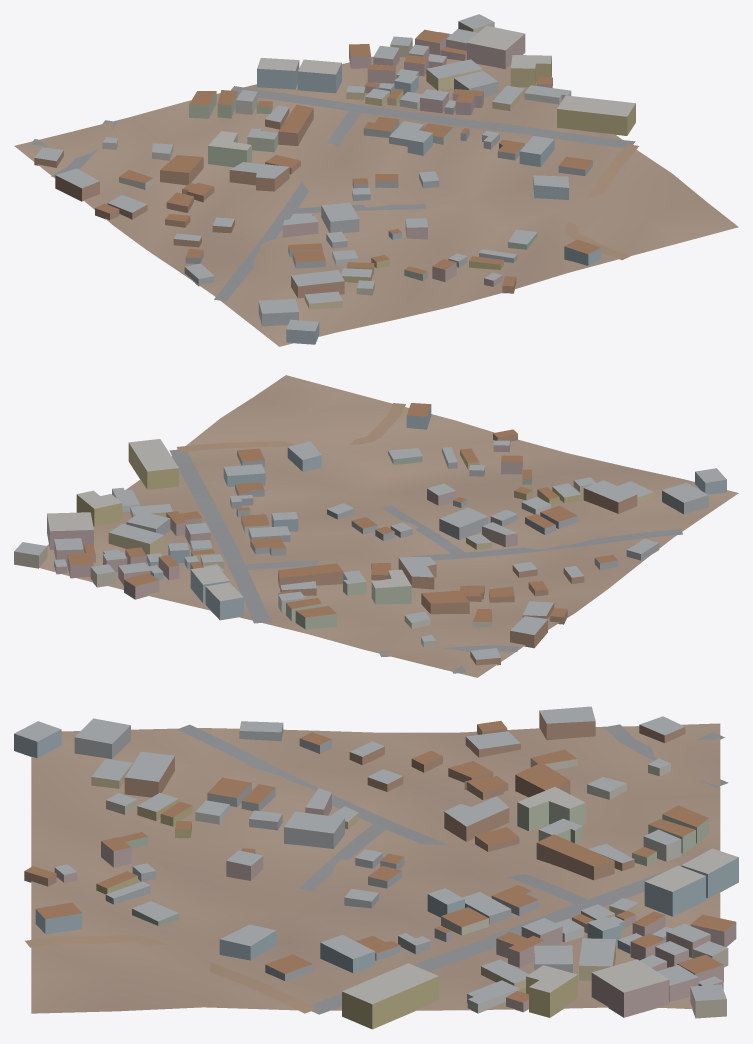
3 renders of one model, top to bottom at view 1: azimuth 30°, elevation 25°; view 2: azimuth 150°, elevation 25°; view 3: azimuth 270°, elevation 25°, orthographic. The views are drawn at different scales.
Parts seen in each view (by area): view 1: Lo; view 2: Lo; view 3: Lo.
Part boxes in pixels (x1,y1,x2,y2): Lo: (14,14,738,346); Lo: (14,375,738,677); Lo: (14,706,738,1029).
Bounding box in the file's own units: 276 × 18.41 × 269.
